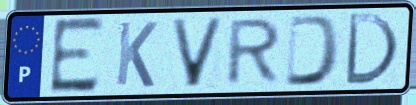D: (282, 13, 344, 89), (342, 11, 402, 88)
E: (47, 15, 107, 97)
K: (113, 19, 160, 90)
R: (222, 16, 285, 88)
V: (168, 16, 228, 90)
